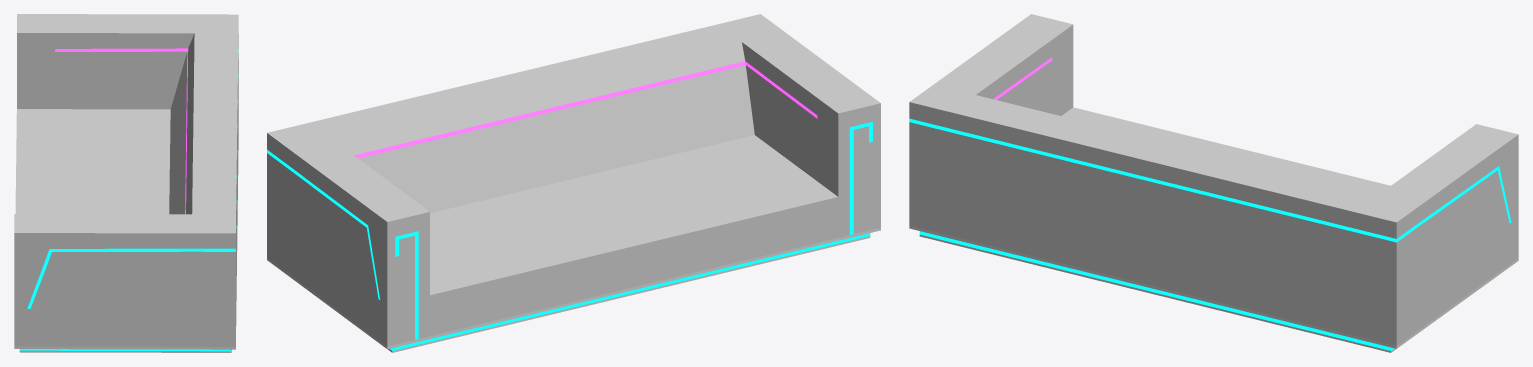
File: modular_lounge_couch.glb
3 renders of one model, left to right at view 1: azimuth 30°, elevation 25°; view 2: azimuth 150°, elevation 25°; view 3: azimuth 270°, elevation 25°, orthographic. The views are drawn at different scales.
Parts seen in each view (by area): view 1: Couch; view 2: Couch; view 3: Couch.
Part boxes in pixels (bbox=[...]): Couch: bbox=[14, 14, 238, 352]; Couch: bbox=[267, 14, 880, 352]; Couch: bbox=[909, 14, 1518, 352].
Size of what is drawn, in the model's own units: 2.42 by 0.7275 by 2.99.
